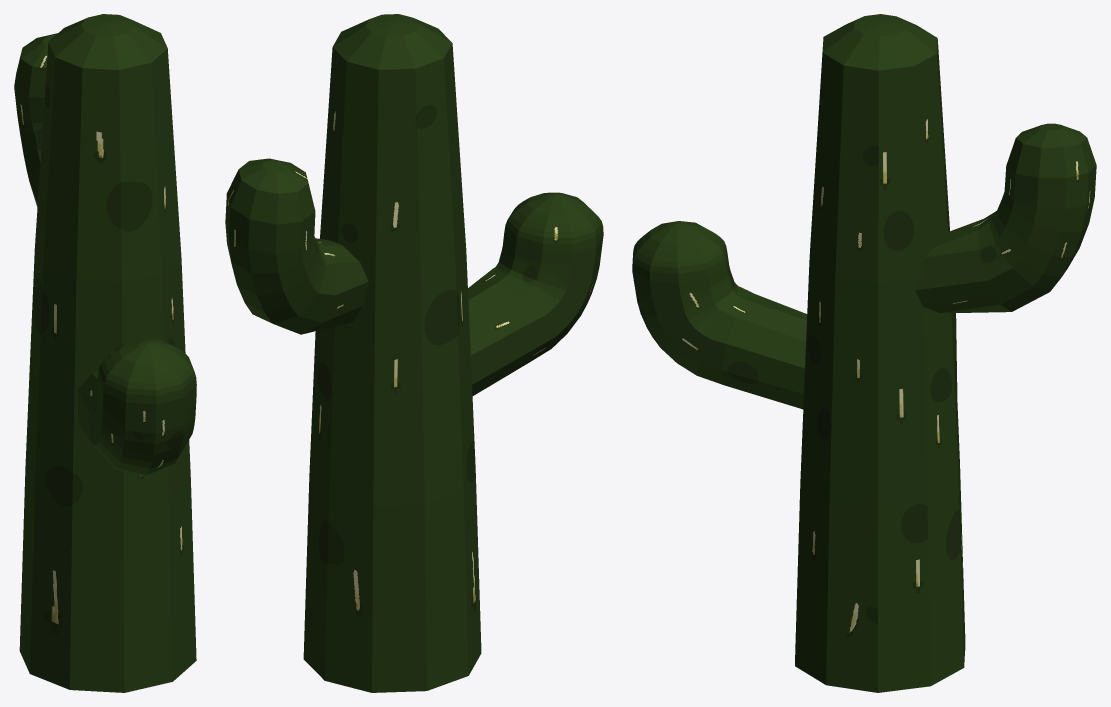
File: cactus1.fbx
3 renders of one model, left to right at view 1: azimuth 30°, elevation 25°; view 2: azimuth 150°, elevation 25°; view 3: azimuth 270°, elevation 25°, orthographic.
Parts seen in each view (by area): view 1: Cylinder; view 2: Cylinder; view 3: Cylinder.
Part boxes in pixels (x1,y1,x2,y2): Cylinder: (14, 14, 196, 692); Cylinder: (225, 14, 603, 692); Cylinder: (632, 14, 1096, 692).
Bounding box in the file's own units: 235 × 783 × 521.
